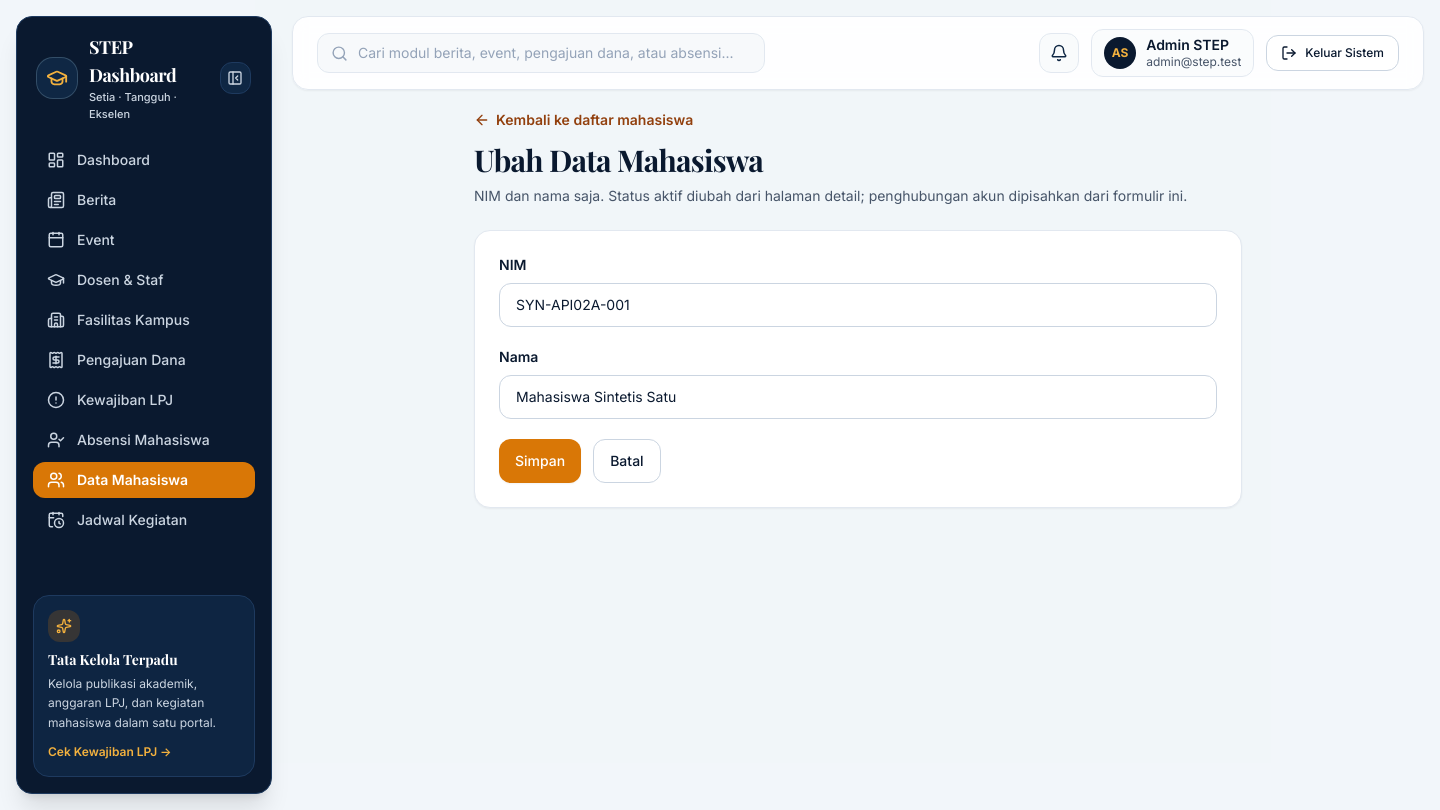
Klien mahasiswa & jadwal kegiatan (client-only, transport disimulasikan) › konflik versi 409 memuat ulang data tanpa menimpa isian pengguna dan tanpa retry otomatis
Replace the text in the field labelled "Nama" with "Isian Pengguna" at (858, 396), box [499,374,1217,418]
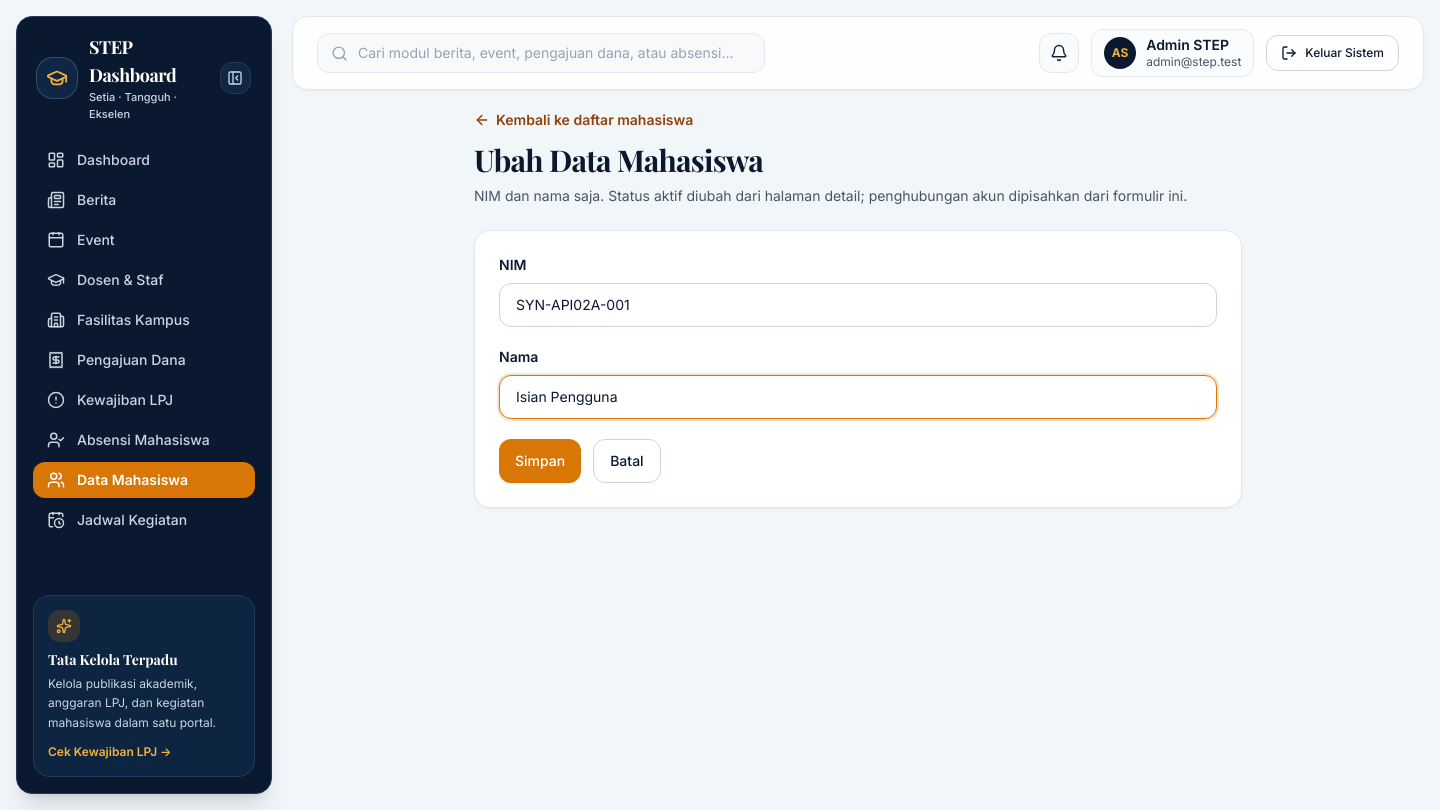
Click the button "Simpan" at (540, 460), box [499,438,581,482]
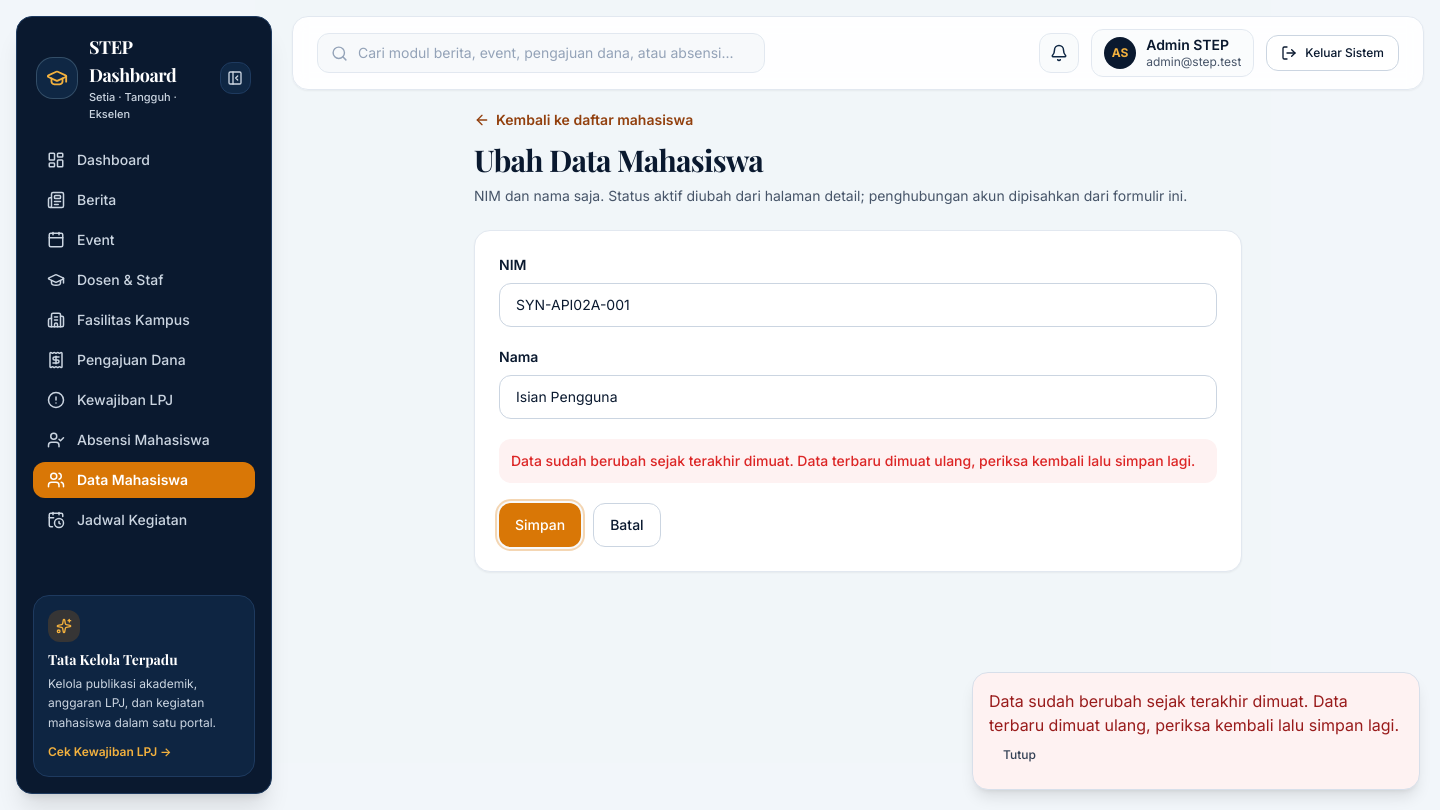
expect the text "Data sudah berubah sejak terakhir dimuat" is shown: met, box [511,452,1195,468]
